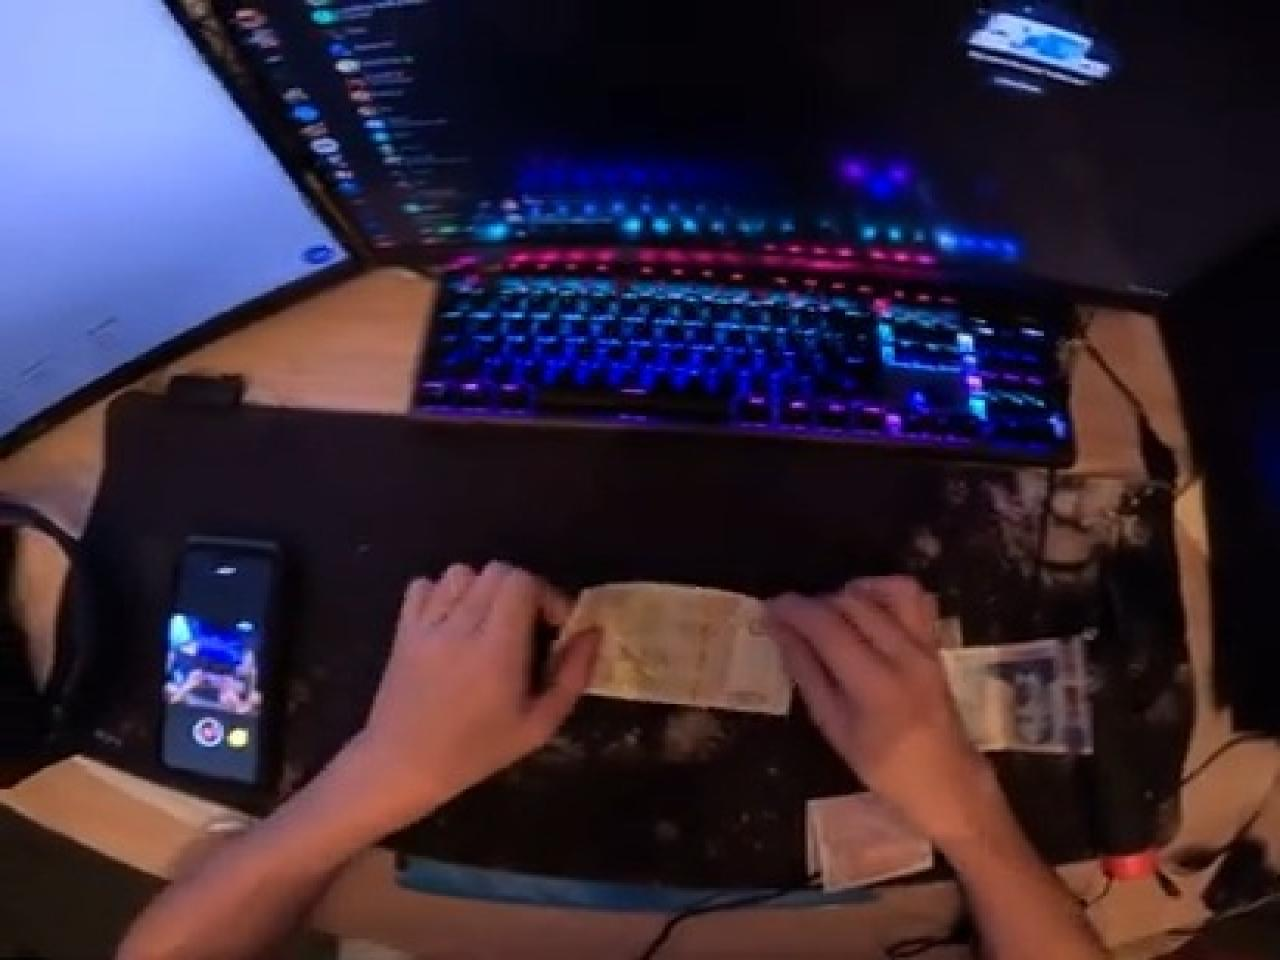50leva: (562, 584, 795, 717)
